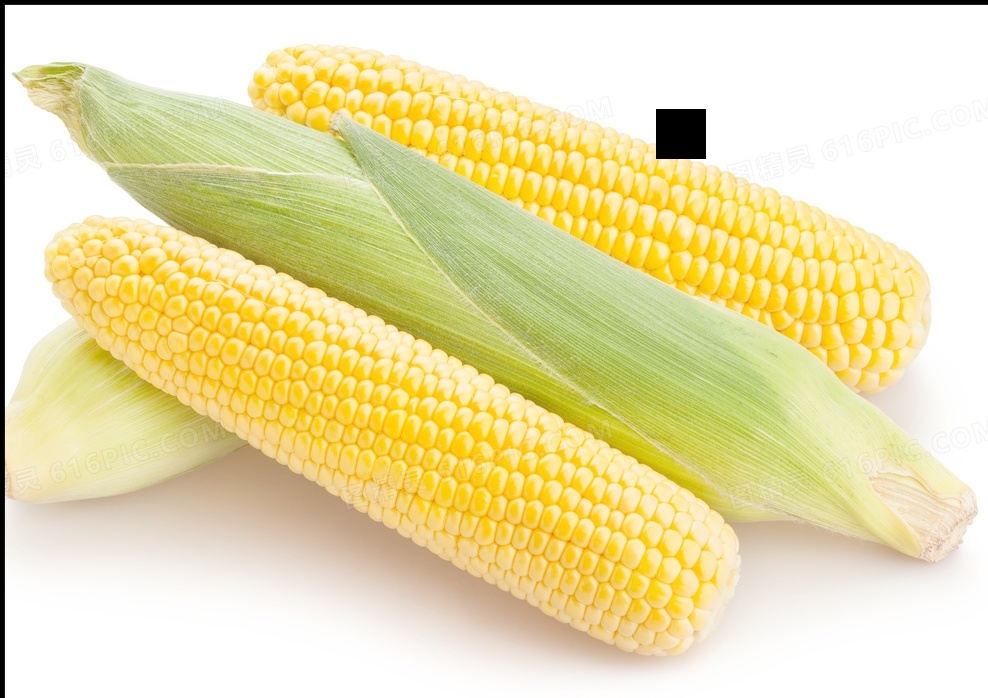corn: (40, 213, 740, 655), (247, 42, 931, 396)
corn_plant: (18, 72, 973, 555)
